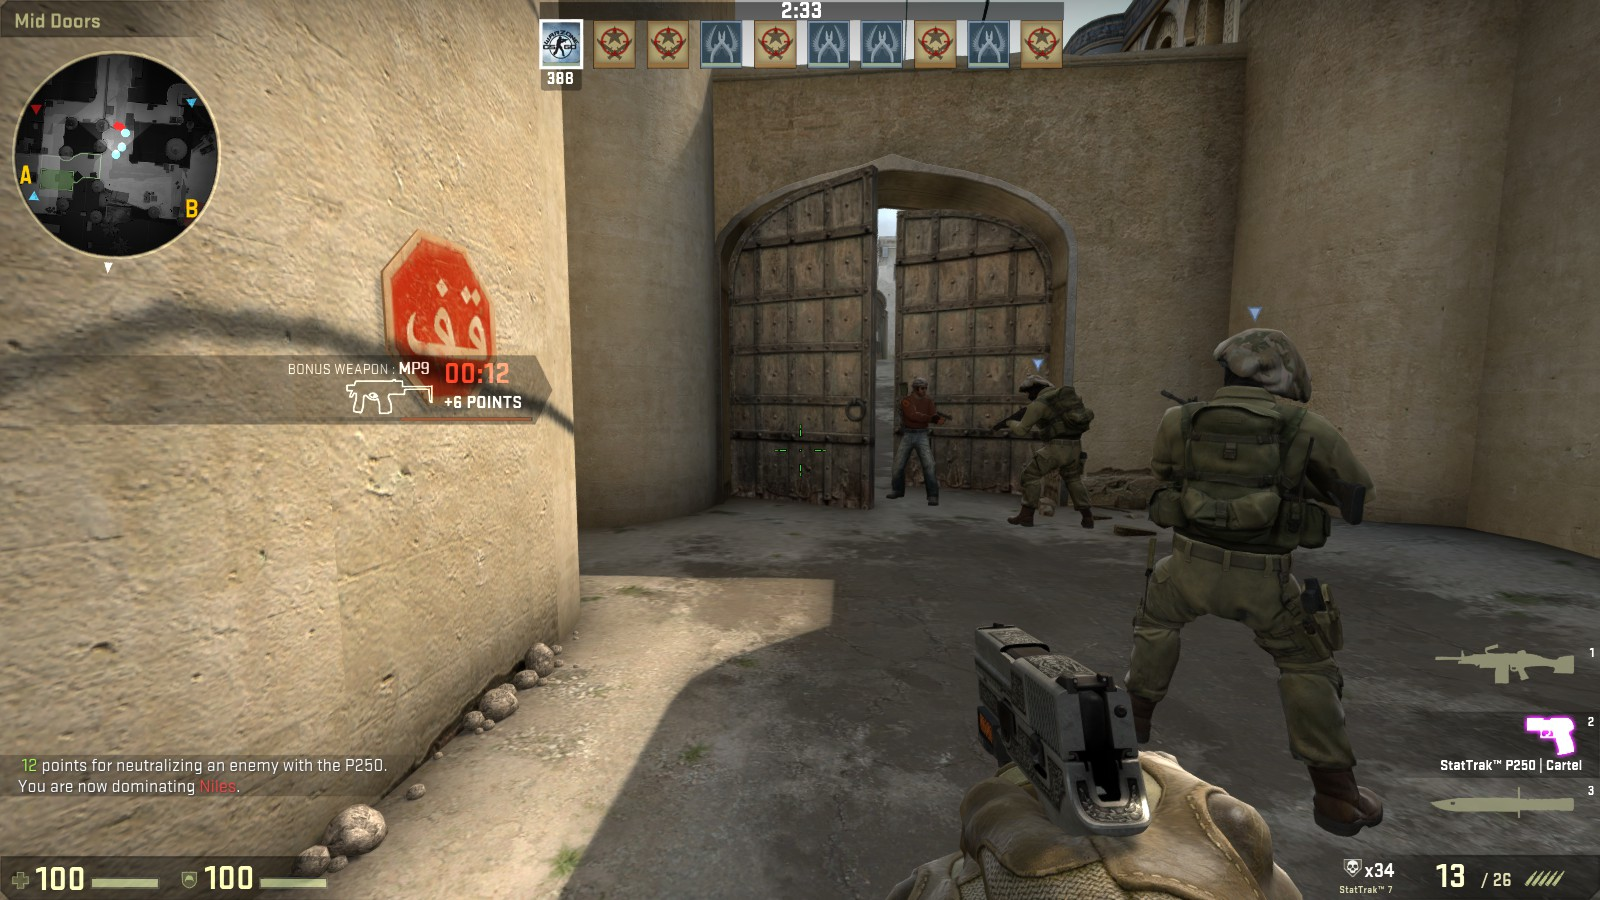c: (1143, 314, 1356, 824), (991, 369, 1102, 534)
ch: (1211, 318, 1314, 423), (1019, 369, 1055, 403)
t: (888, 376, 940, 499)
th: (910, 374, 931, 401)
